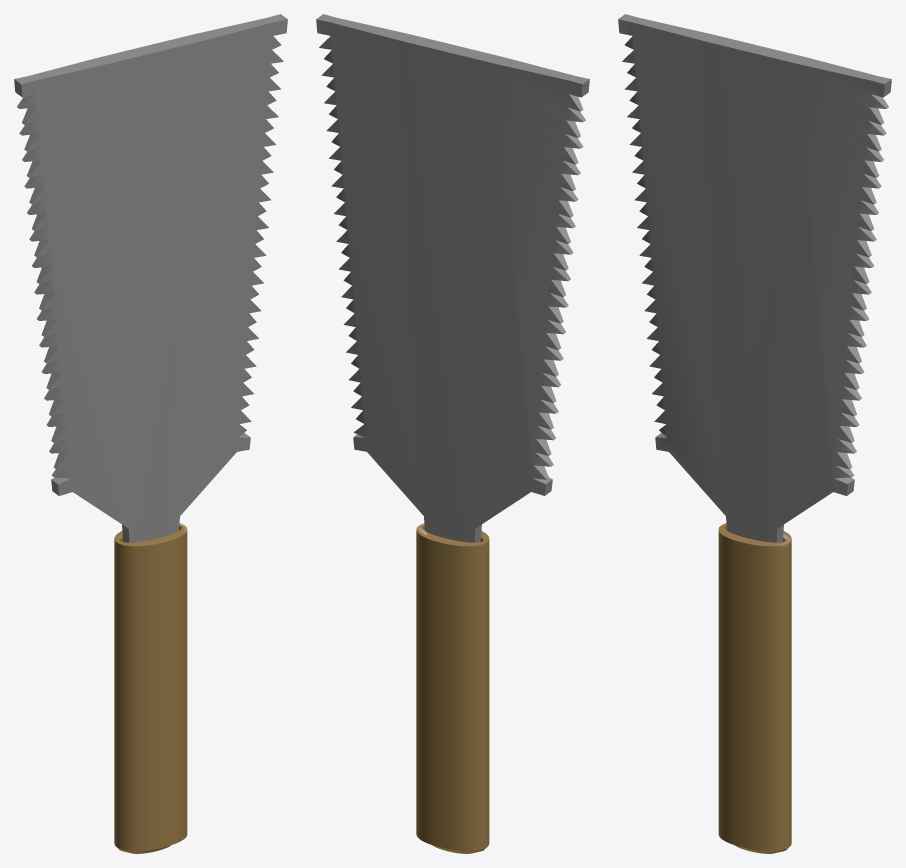
The model's file is saw.fbx.
3 views of the same model, side by side, from view 1: azimuth 30°, elevation 25°; view 2: azimuth 150°, elevation 25°; view 3: azimuth 330°, elevation 25° (orthographic).
Visible parts, largest first — view 1: Plane; view 2: Plane; view 3: Plane.
Boxes of the visible parts, x1,y1,x2,y2 form: Plane: [14, 14, 287, 853]; Plane: [316, 14, 589, 853]; Plane: [618, 14, 891, 853].
Size of the model in its own units: 103 by 297 by 15.89.
